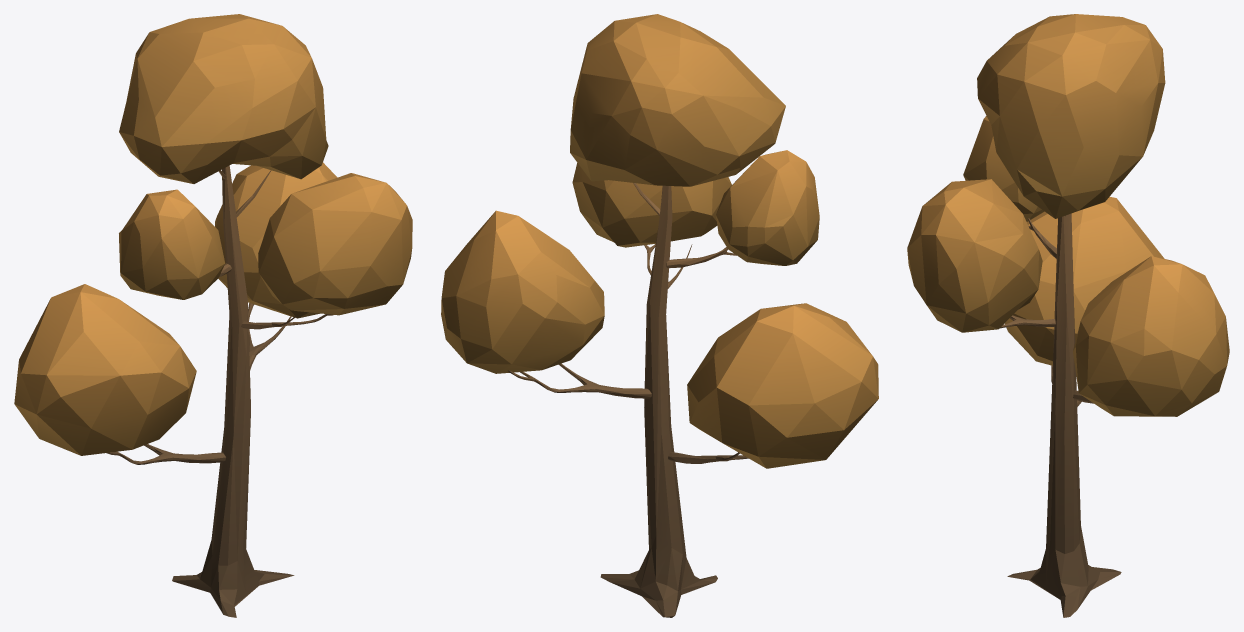
Rendered from Autumn_Tree_11.glb.
3 views of the same model, side by side, from view 1: azimuth 30°, elevation 25°; view 2: azimuth 150°, elevation 25°; view 3: azimuth 270°, elevation 25° (orthographic).
Visible parts, largest first — view 1: Autumn_Tree_11_LOD0; view 2: Autumn_Tree_11_LOD0; view 3: Autumn_Tree_11_LOD0.
Boxes of the visible parts, x1,y1,x2,y2 form: Autumn_Tree_11_LOD0: (14,14,412,617); Autumn_Tree_11_LOD0: (441,14,878,617); Autumn_Tree_11_LOD0: (907,14,1229,617).
Size of what is drawn, in the model's own units: 7.57 by 10.92 by 5.63.
Materials: 1 (1 with a texture image).
